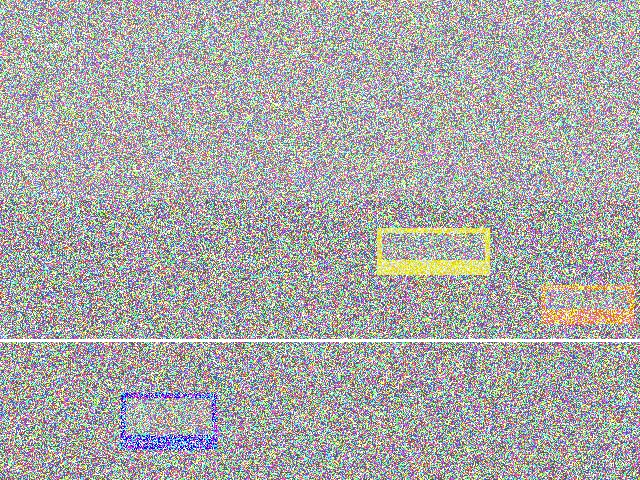motorcycle: (400, 323, 539, 406)
truck: (70, 273, 243, 376), (467, 287, 572, 336)
